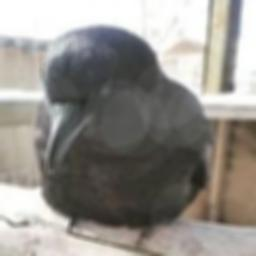Crow: (33, 24, 216, 250)
